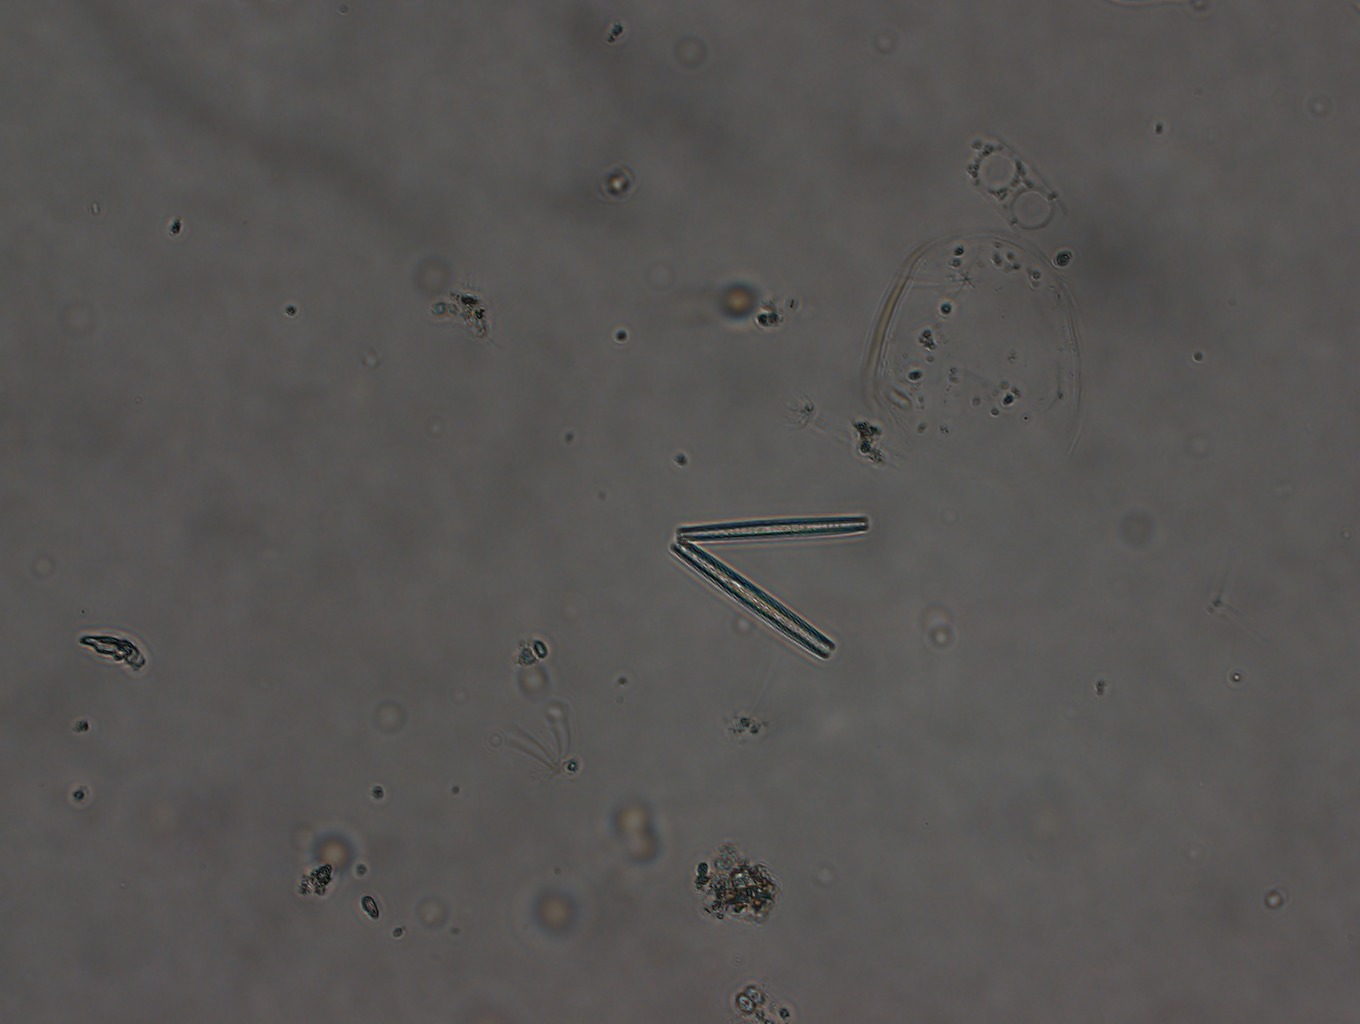eucampia: (946, 129, 1078, 258)
thalassionema nitzschioides: (655, 492, 872, 667)
